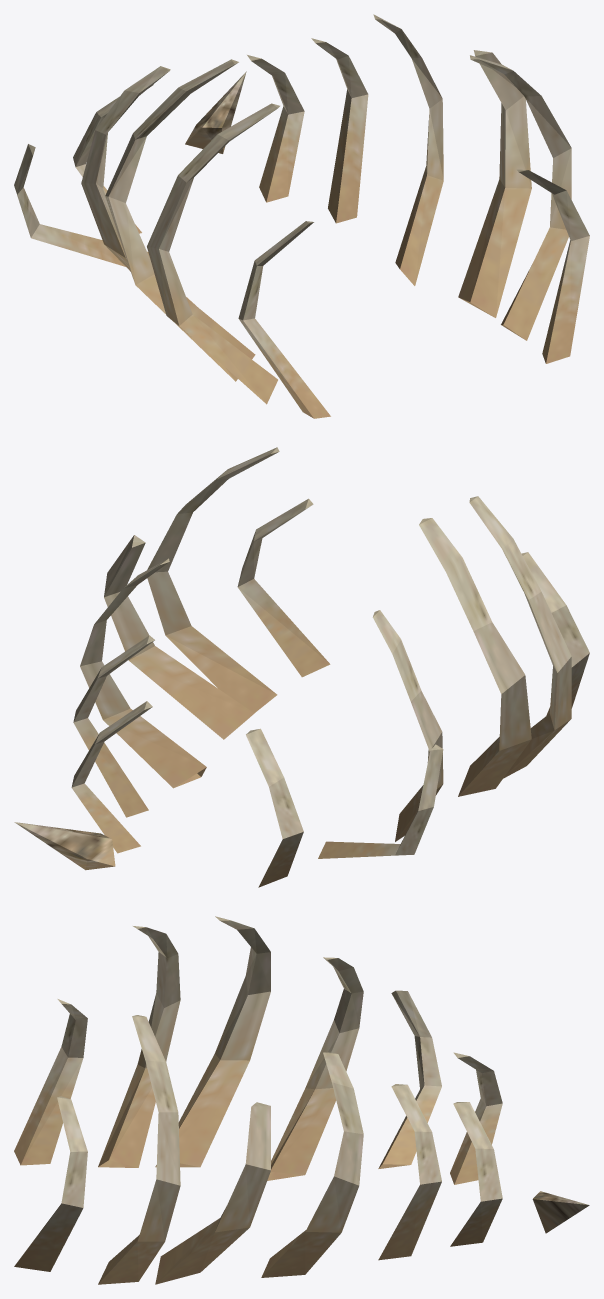
File: C2SNBONE2_H.obj
3 views of the same model, one above another, from view 1: azimuth 30°, elevation 25°; view 2: azimuth 150°, elevation 25°; view 3: azimuth 270°, elevation 25° (orthographic). The views are drawn at different scales.
Parts seen in each view (by area): view 1: Node 0; view 2: Node 0; view 3: Node 0.
Part boxes in pixels (x1,y1,x2,y2): Node 0: (14,14,589,418); Node 0: (14,447,589,887); Node 0: (14,916,589,1284).
Bounding box in the file's own units: 4.04 × 2.69 × 5.22.
Materials: 1 (1 with a texture image).
